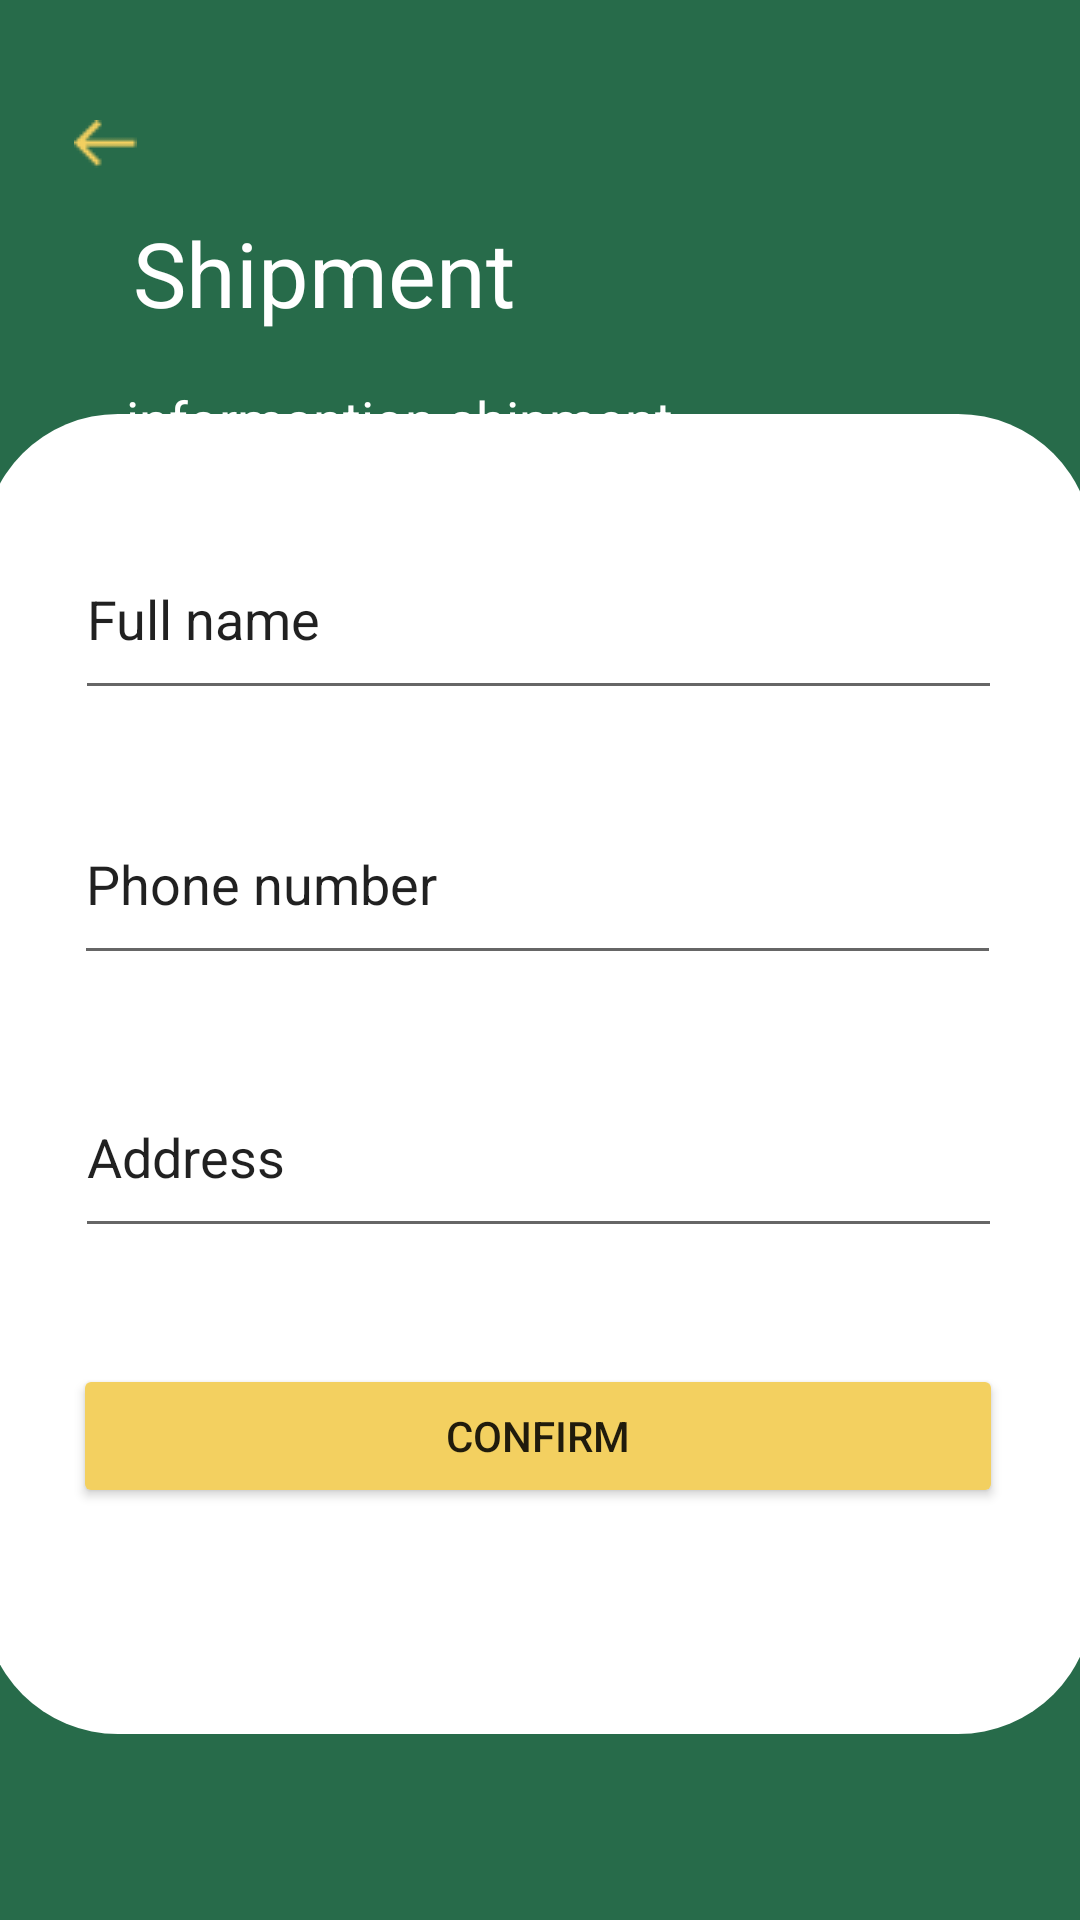

Named icons in this screenshot (1080x1920) and their centers, (x,y):
arrowleft: (105,143)
